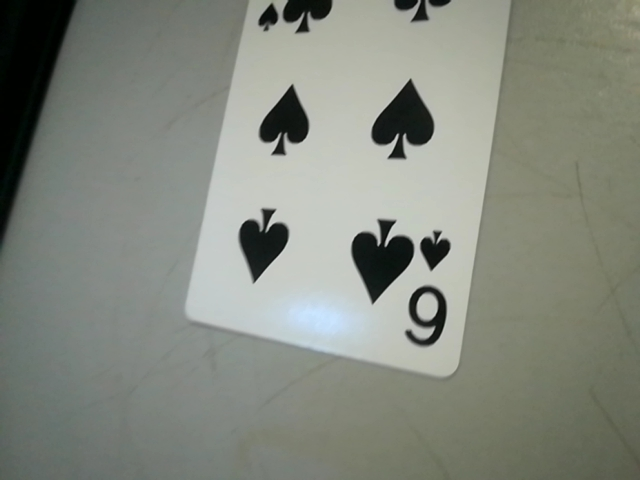ht 6: (399, 219, 463, 364)
